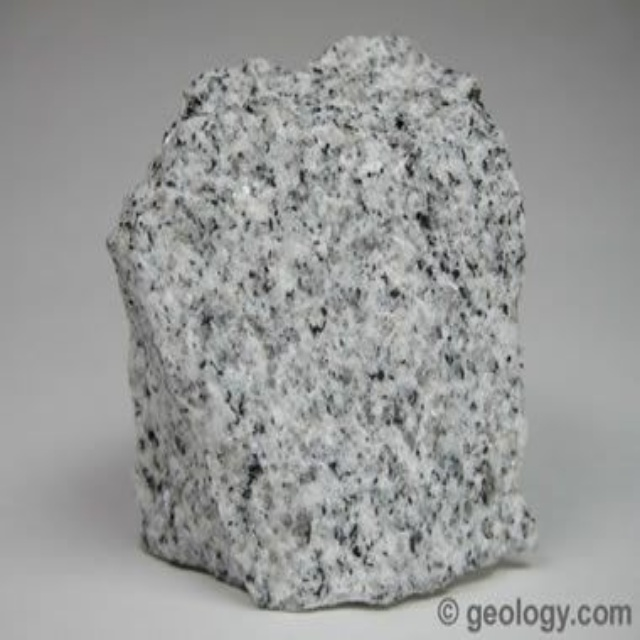obstacle: (108, 38, 536, 609)
